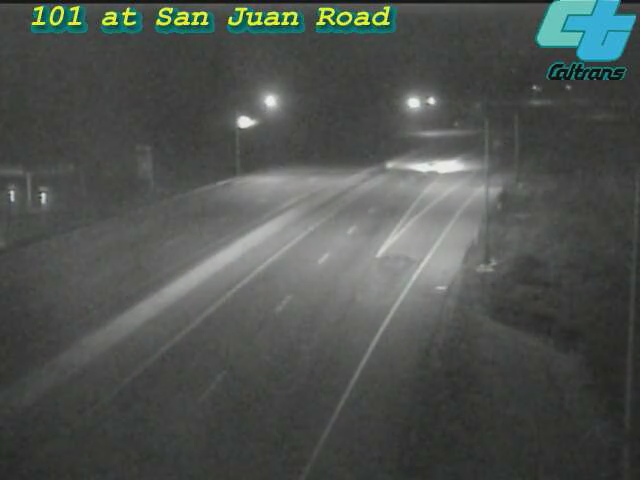vehicle: (393, 128, 473, 208)
